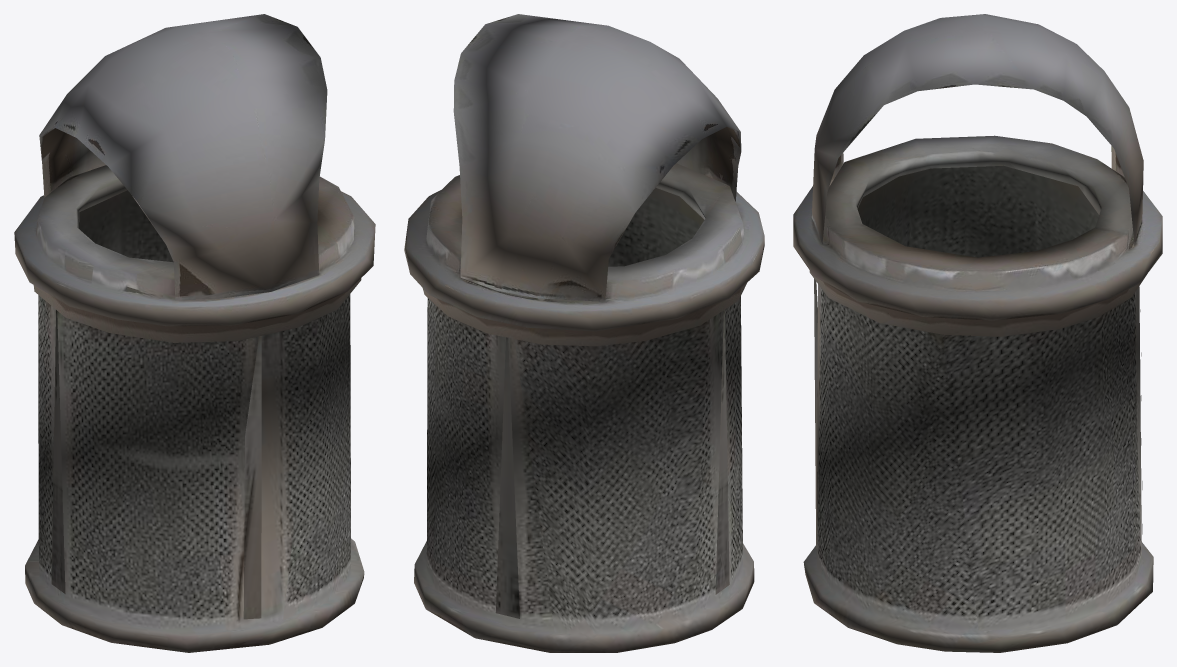
The model's file is litter-bin.glb.
3 renders of one model, left to right at view 1: azimuth 30°, elevation 25°; view 2: azimuth 150°, elevation 25°; view 3: azimuth 270°, elevation 25°, orthographic. The views are drawn at different scales.
Visible parts, largest first — view 1: tripo_node_9ffc80cc-e2b8-4d0a-bfdd-f9d36693539f; view 2: tripo_node_9ffc80cc-e2b8-4d0a-bfdd-f9d36693539f; view 3: tripo_node_9ffc80cc-e2b8-4d0a-bfdd-f9d36693539f.
Part boxes in pixels (<box>): tripo_node_9ffc80cc-e2b8-4d0a-bfdd-f9d36693539f: <box>14,14,375,652</box>; tripo_node_9ffc80cc-e2b8-4d0a-bfdd-f9d36693539f: <box>404,14,764,652</box>; tripo_node_9ffc80cc-e2b8-4d0a-bfdd-f9d36693539f: <box>793,14,1162,652</box>.
Bounding box in the file's own units: 0.6033 × 1 × 0.6031.
Materials: 1 (1 with a texture image).
